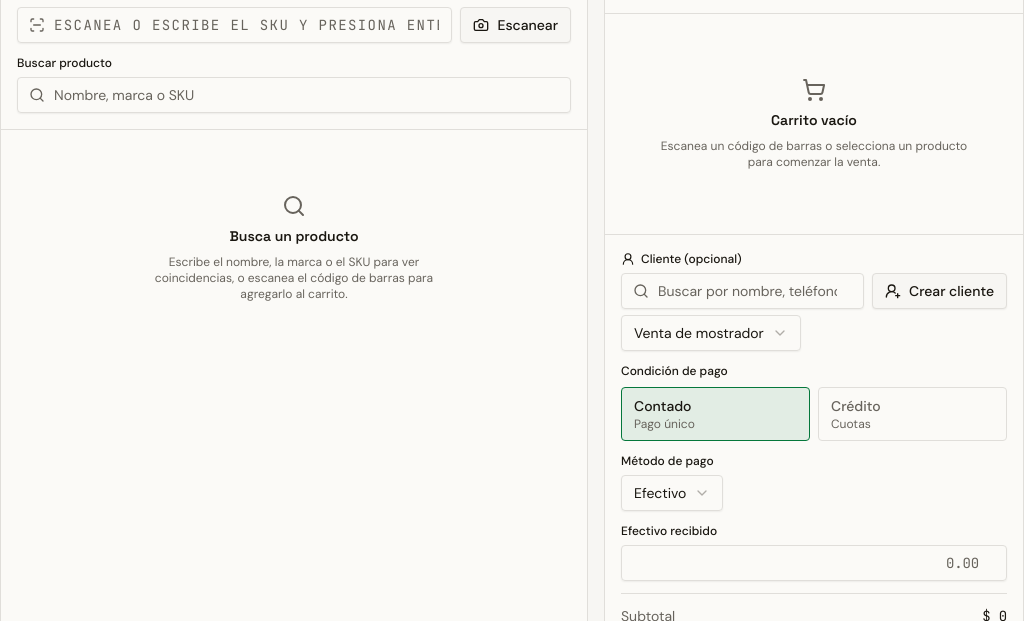
it: PosPage customer seam › shows the chosen customer on the receipt
Type "balata" into the field with test id "pos.search_input" at x=294, y=95, box [17,77,571,113]
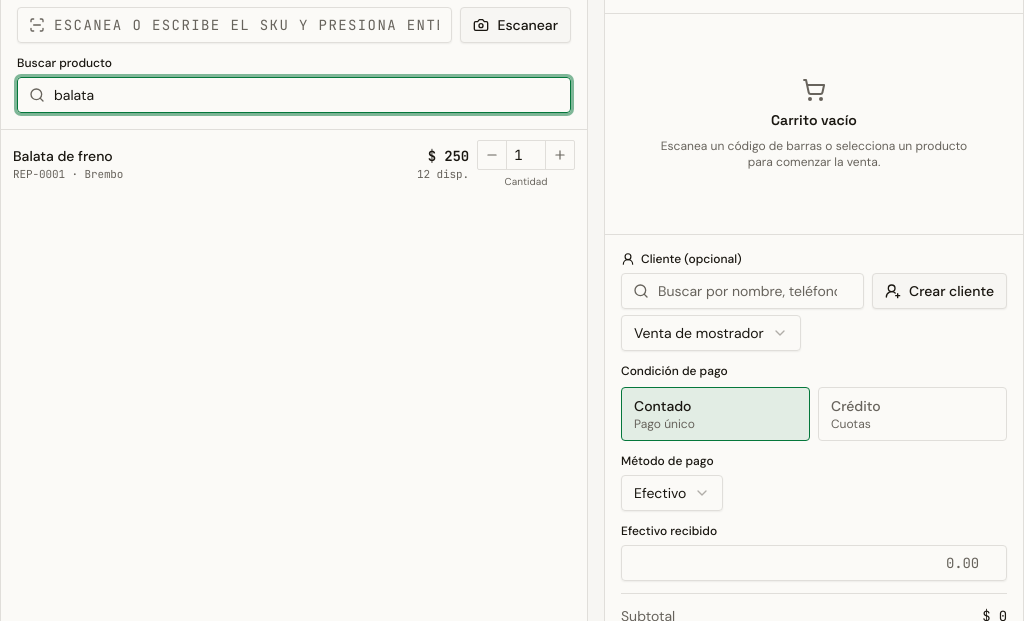
Now the button with test id "pos.product_item.1" is shown
Click the button with test id "pos.product_item.1" at x=63, y=156, box [13,140,469,189]
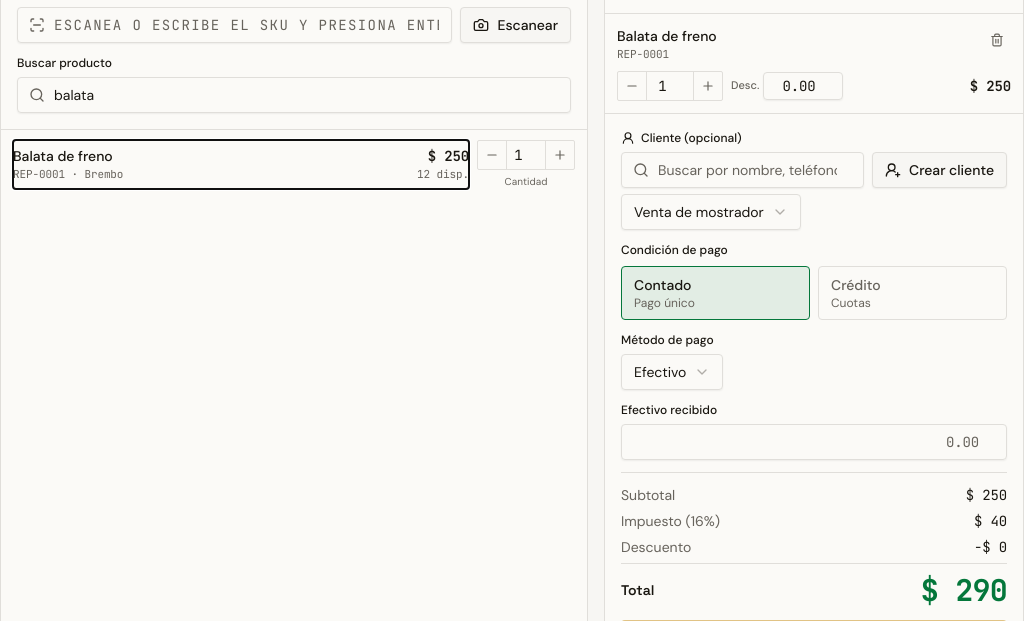
Click the dropdown with test id "pos.customer_select" at x=711, y=212, box [621,194,801,230]
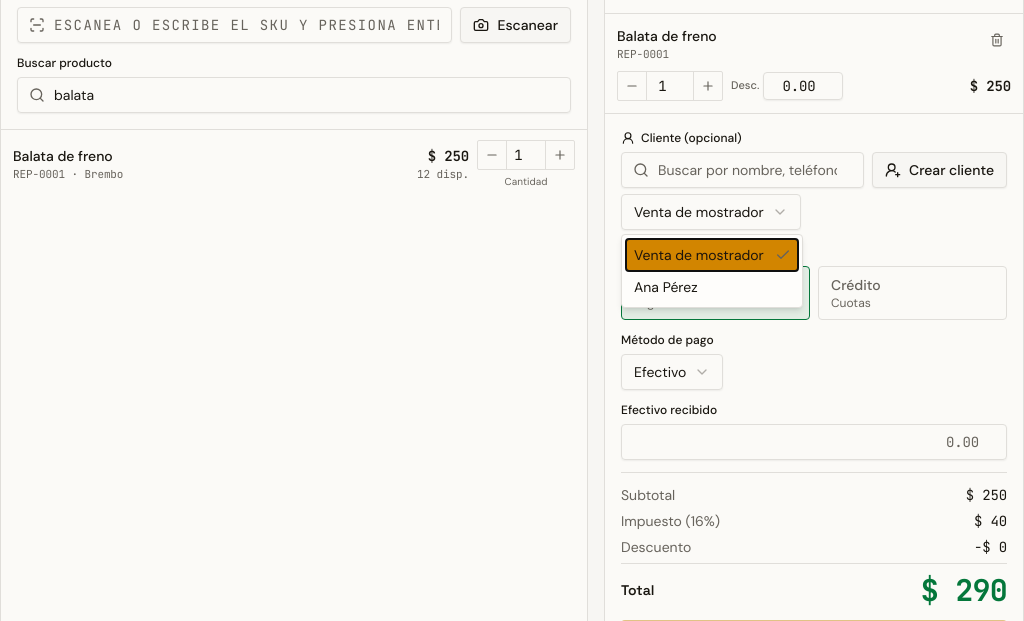
Click the option "Ana Pérez" at x=666, y=287, box [634,278,698,296]
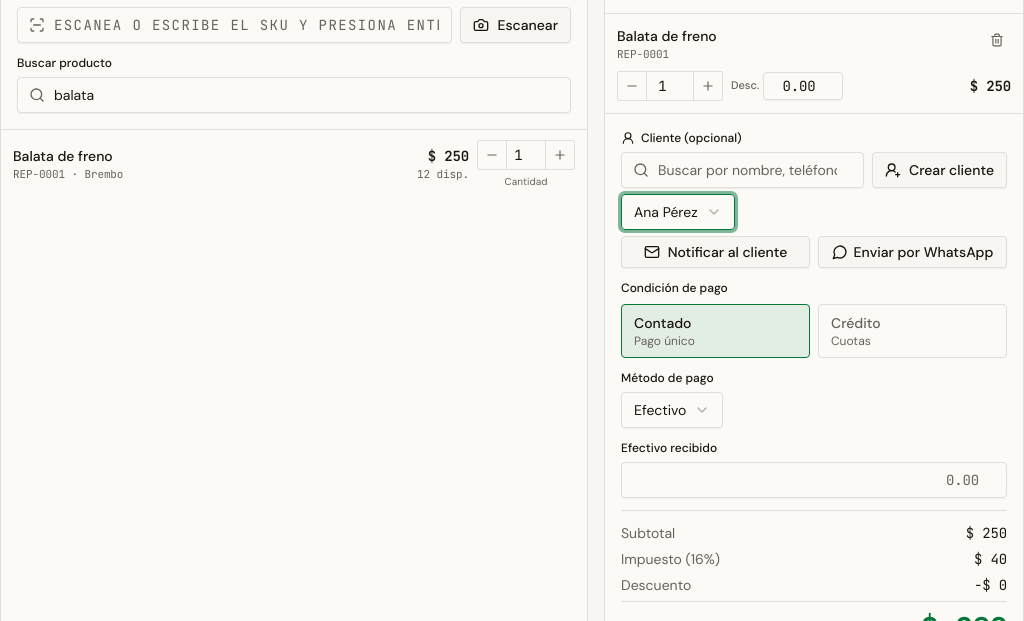
Type "300" into the number field with test id "pos.amount_received_input" at x=814, y=480, box [621,462,1007,498]
(page scrolled)
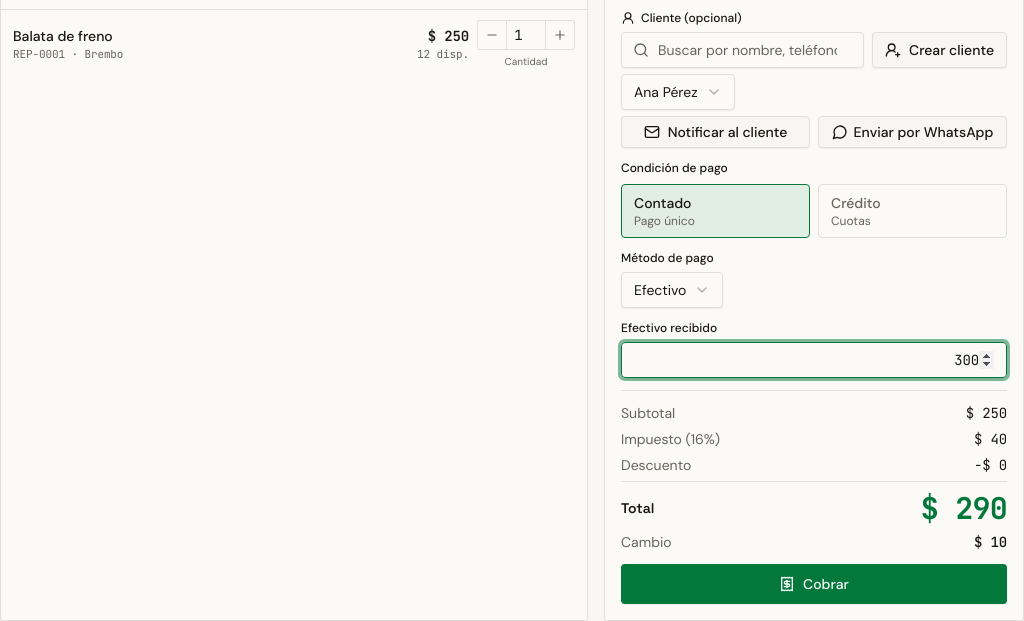
Click the button with test id "pos.charge_button" at x=814, y=584, box [621,564,1007,604]
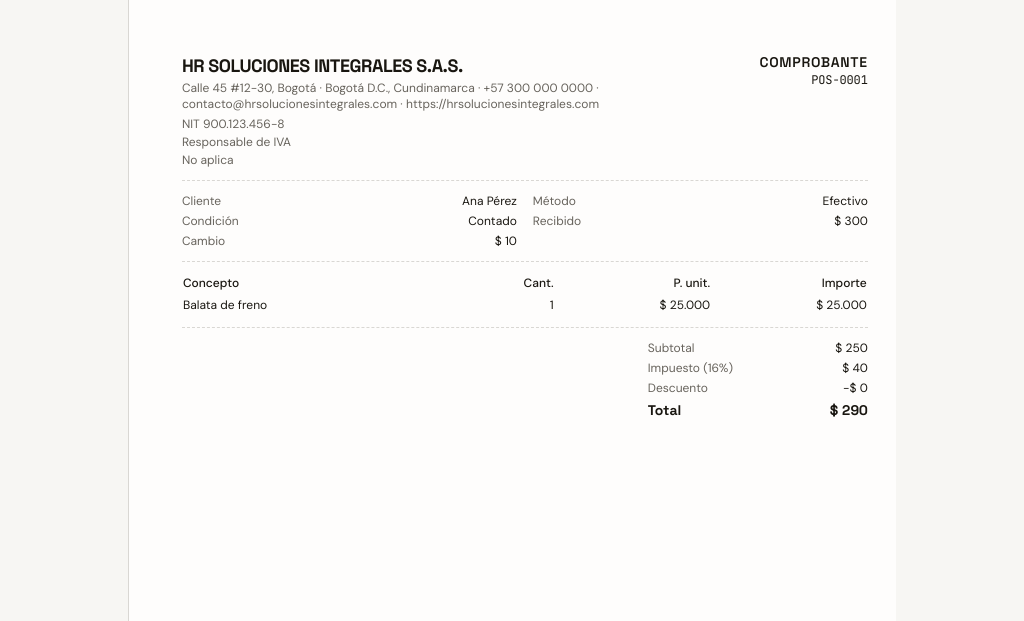
Now the text "Ana Pérez" is shown, box [462,193,517,209]
